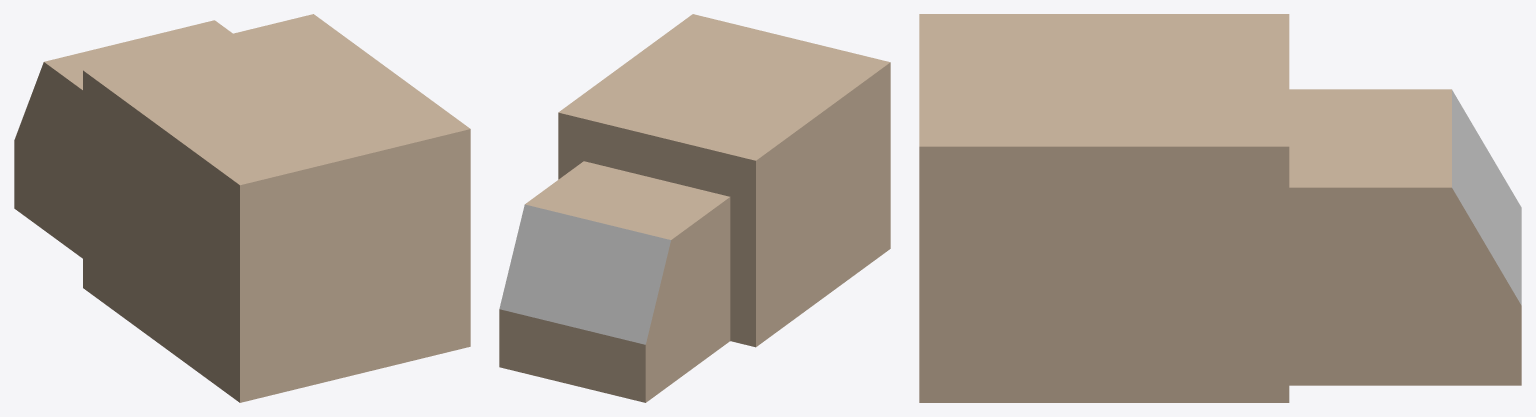
Rendered from ambulance.obj.
3 views of the same model, side by side, from view 1: azimuth 30°, elevation 25°; view 2: azimuth 150°, elevation 25°; view 3: azimuth 270°, elevation 25° (orthographic). The views are drawn at different scales.
Parts seen in each view (by area): view 1: Cube1_default; view 2: Cube1_default, Cube1_Cube1_auv; view 3: Cube1_default, Cube1_Cube1_auv.
Part boxes in pixels (x1,y1,x2,y2): Cube1_default: (14,14,470,402); Cube1_default: (499,14,890,402); Cube1_Cube1_auv: (499,204,670,344); Cube1_default: (919,14,1521,402); Cube1_Cube1_auv: (1452,90,1521,305).
Bounding box in the file's own units: 2.7 × 2.44 × 5.19.
